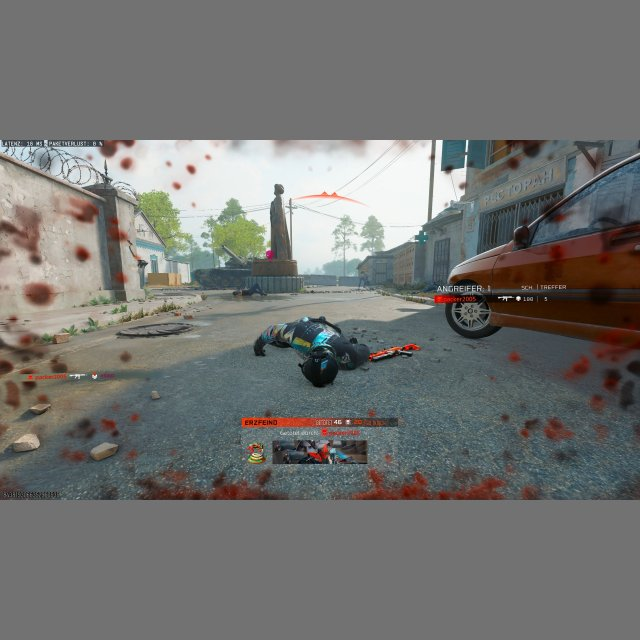head: (301, 348, 338, 387), (254, 334, 269, 356)
